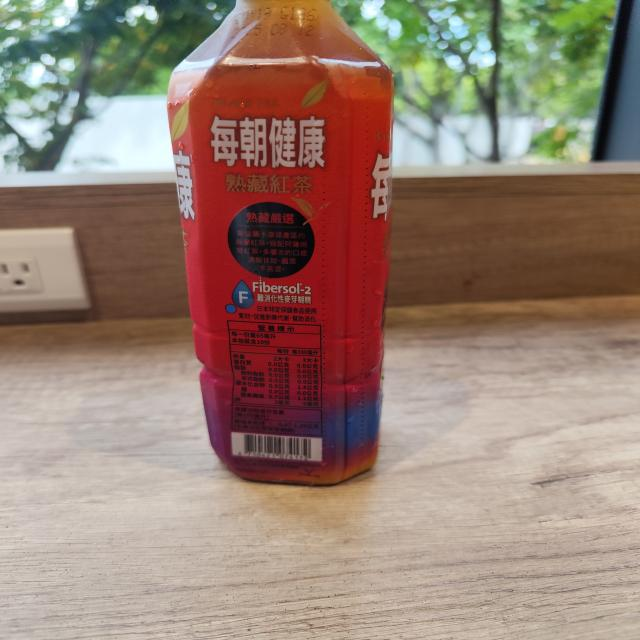MeiChou_BlackTea: (164, 0, 400, 486)
